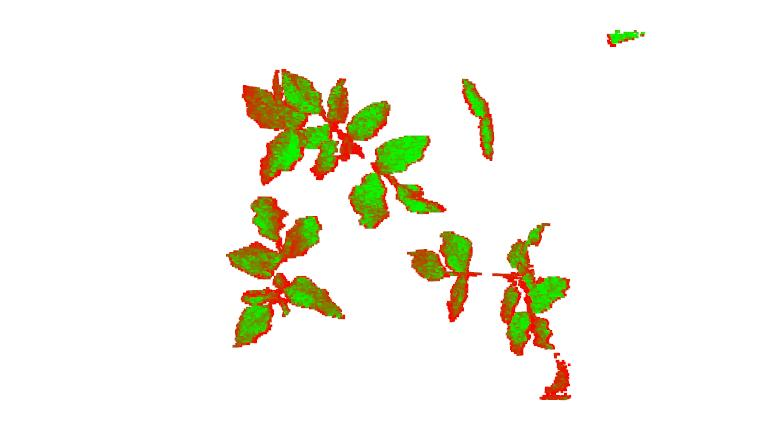mungbean: (235, 65, 450, 231), (411, 222, 575, 351), (228, 197, 351, 353), (452, 72, 503, 168)
